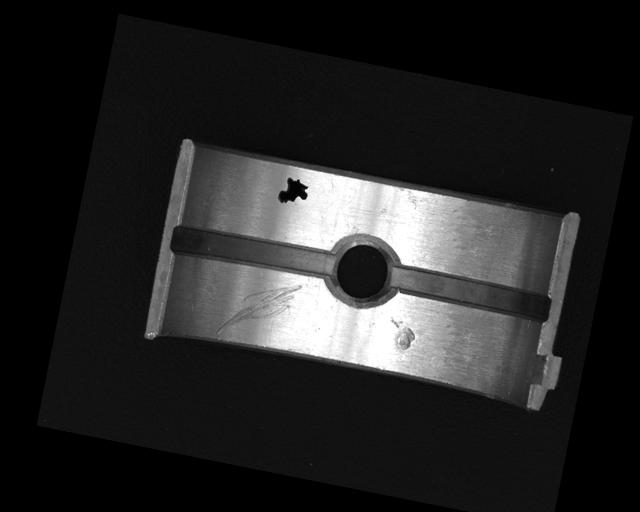blot: (276, 175, 311, 209)
bruise: (385, 315, 419, 351)
gap: (169, 220, 340, 285), (387, 264, 553, 323)
hole: (322, 230, 402, 311)
nick: (215, 270, 302, 348)
